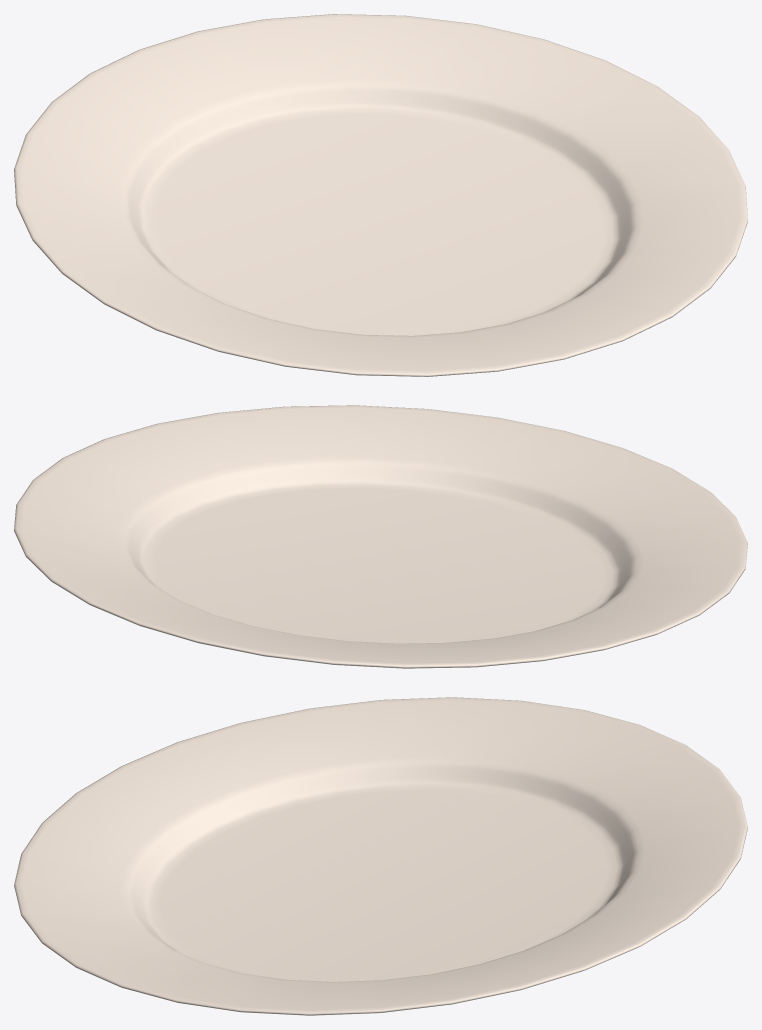
File: Assiette.FBX
The picture shows the model from 3 angles, top to bottom: view 1: azimuth 30°, elevation 25°; view 2: azimuth 150°, elevation 25°; view 3: azimuth 270°, elevation 25°; orthographic projection.
Visible parts, largest first — view 1: Assiete evier002; view 2: Assiete evier002; view 3: Assiete evier002.
Boxes of the visible parts, bbox=[...] form: Assiete evier002: bbox=[14, 14, 747, 376]; Assiete evier002: bbox=[14, 405, 747, 668]; Assiete evier002: bbox=[14, 697, 747, 1015].
Bounding box in the file's own units: 6.62 × 0.8528 × 6.6.
